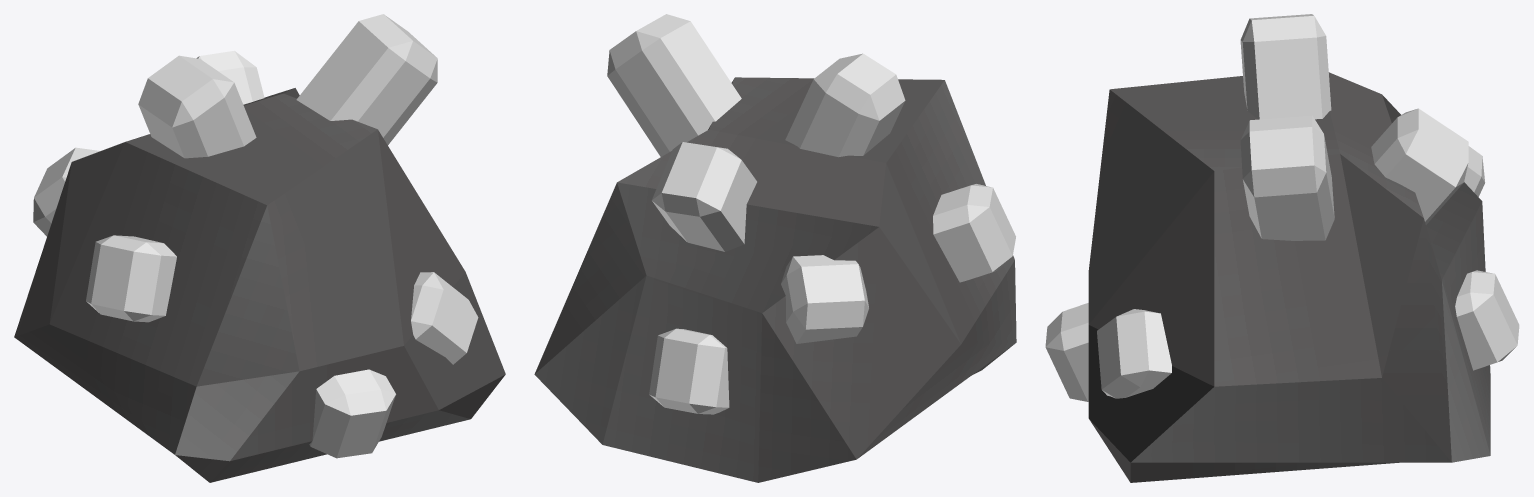
Rendered from stone.fbx.
3 renders of one model, left to right at view 1: azimuth 30°, elevation 25°; view 2: azimuth 150°, elevation 25°; view 3: azimuth 270°, elevation 25°, orthographic. The views are drawn at different scales.
Visible parts, largest first — view 1: beveled_cuboid, beveled_cuboid_2, beveled_cuboid_8, beveled_cuboid_7, beveled_cuboid_6, beveled_cuboid_3, beveled_cuboid_4, beveled_cuboid_1; view 2: beveled_cuboid, beveled_cuboid_2, beveled_cuboid_8, beveled_cuboid_1, beveled_cuboid_4, beveled_cuboid_7, beveled_cuboid_5; view 3: beveled_cuboid, beveled_cuboid_2, beveled_cuboid_8, beveled_cuboid_1, beveled_cuboid_3, beveled_cuboid_5, beveled_cuboid_6, beveled_cuboid_4.
Boxes of the visible parts, x1,y1,x2,y2 form: beveled_cuboid: (14,88,505,482); beveled_cuboid_2: (296,14,437,144); beveled_cuboid_8: (138,55,256,158); beveled_cuboid_7: (86,235,176,322); beveled_cuboid_6: (309,369,395,458); beveled_cuboid_3: (411,272,478,364); beveled_cuboid_4: (33,147,100,236); beveled_cuboid_1: (196,50,264,104); beveled_cuboid: (534,77,1016,482); beveled_cuboid_2: (607,14,741,156); beveled_cuboid_8: (785,53,905,157); beveled_cuboid_1: (651,142,756,251); beveled_cuboid_4: (781,255,868,343); beveled_cuboid_7: (933,184,1015,282); beveled_cuboid_5: (649,328,729,414); beveled_cuboid: (1088,72,1490,482); beveled_cuboid_2: (1240,115,1334,240); beveled_cuboid_8: (1240,14,1331,119); beveled_cuboid_1: (1371,108,1468,224); beveled_cuboid_3: (1097,309,1171,398); beveled_cuboid_5: (1455,270,1519,370); beveled_cuboid_6: (1045,303,1088,401); beveled_cuboid_4: (1464,146,1485,196).
Size of the model in its own units: 133 by 120 by 141.
Materials: 1 (1 with a texture image).
